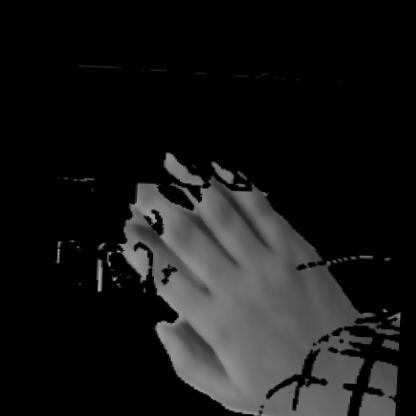dua: (95, 146, 383, 406)
